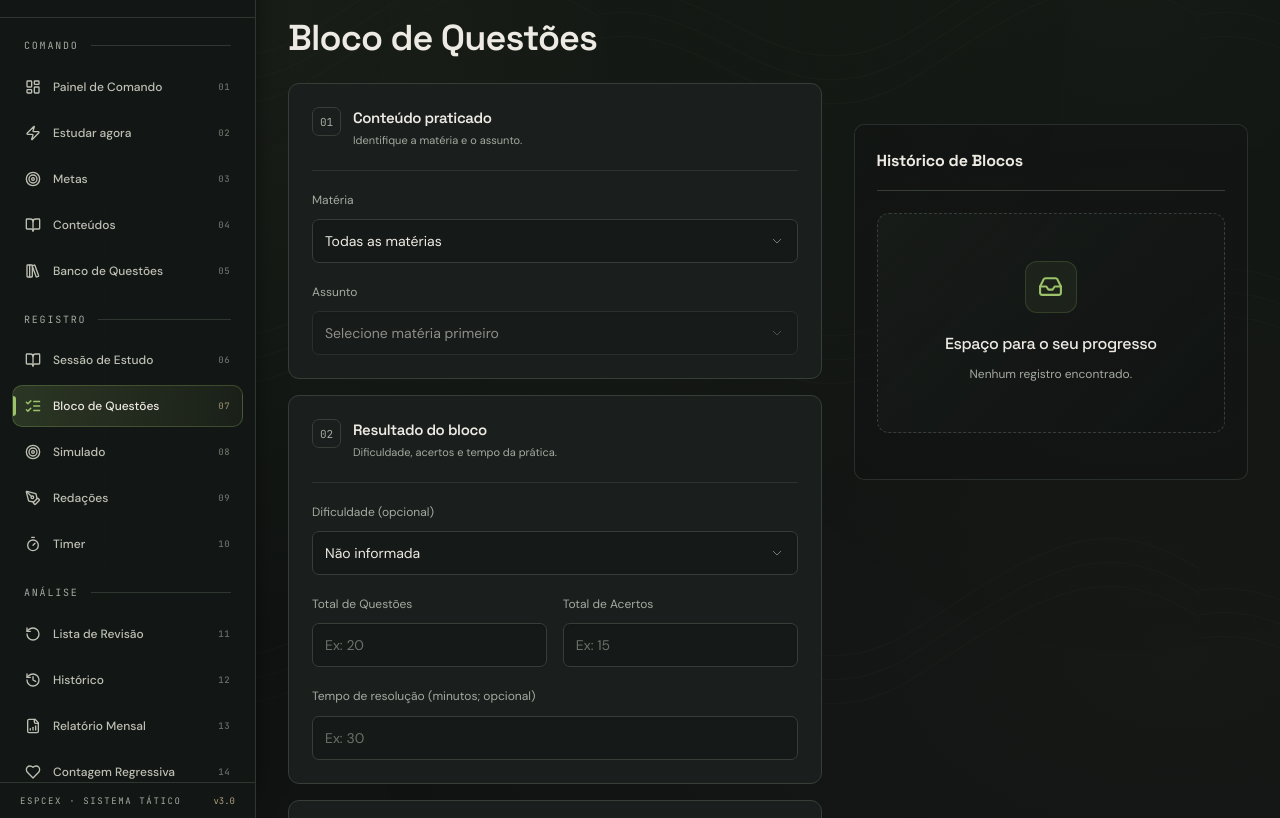
Scenario: Redesign preserves study workflows › preserves block duration conversion and optional confidence
This screenshot has width=1280, height=818.
Select "Matemática" in the dropdown named "Matéria" at point(555, 241), box x1=312 y1=219 x2=798 y2=263
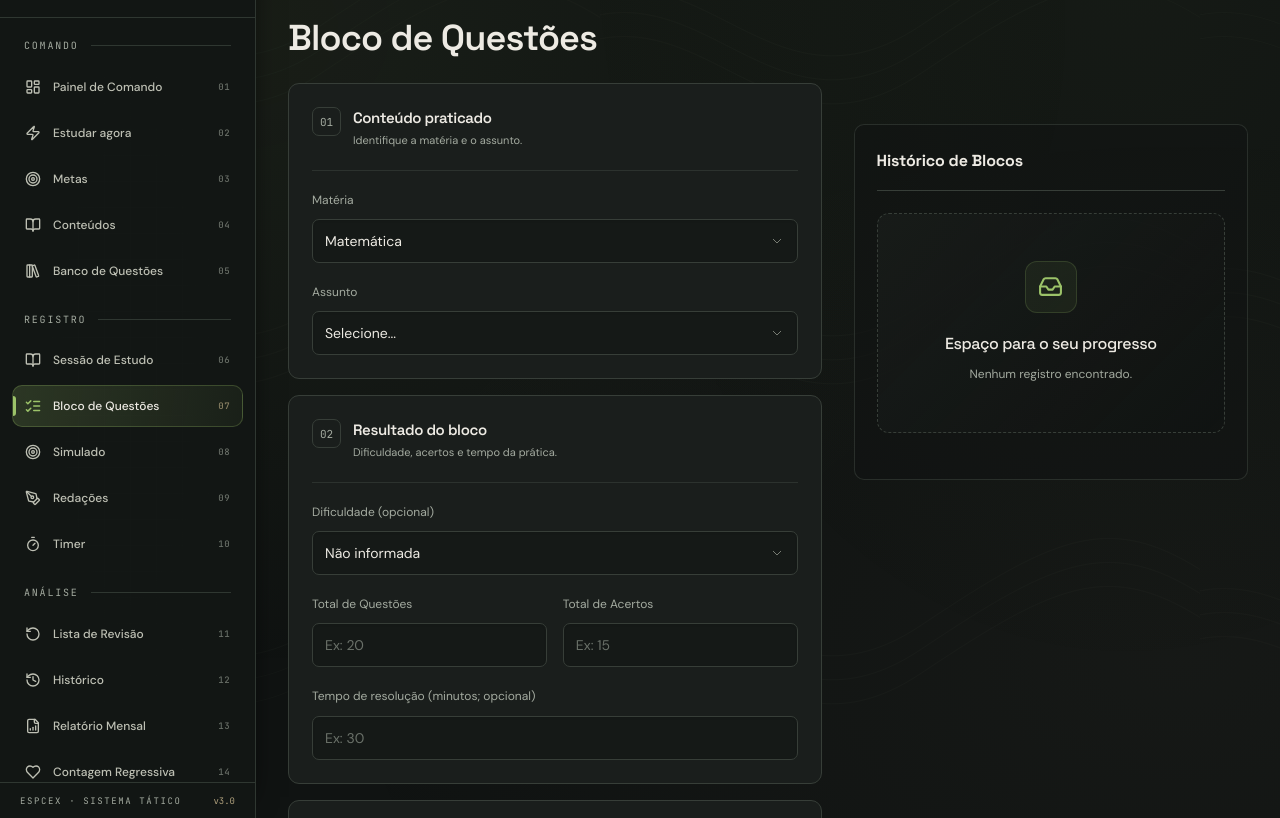
Select "Funções" in the dropdown named "Assunto" at point(555, 333), box x1=312 y1=311 x2=798 y2=355
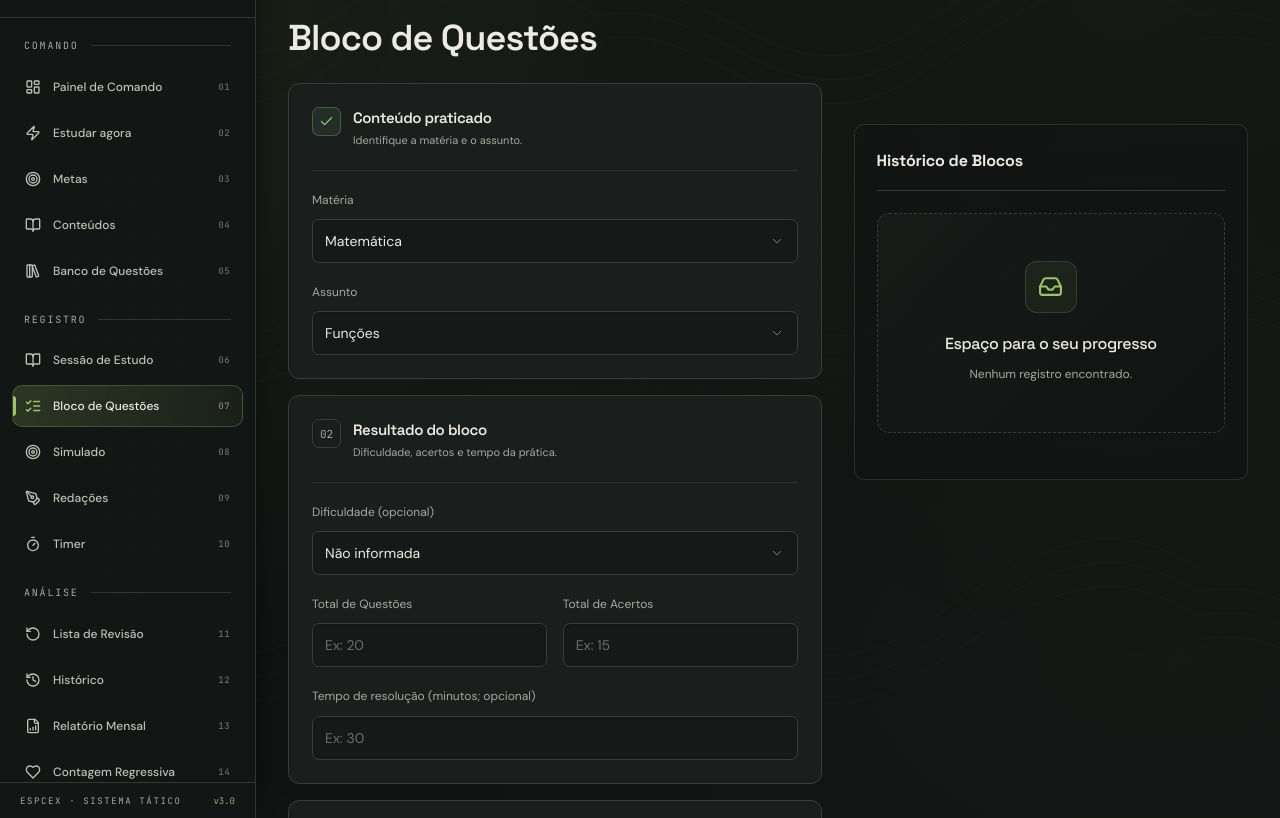
Type "20" into the number field named "Total de Questões".
click(429, 645); type("20")  # box x1=312 y1=623 x2=547 y2=667
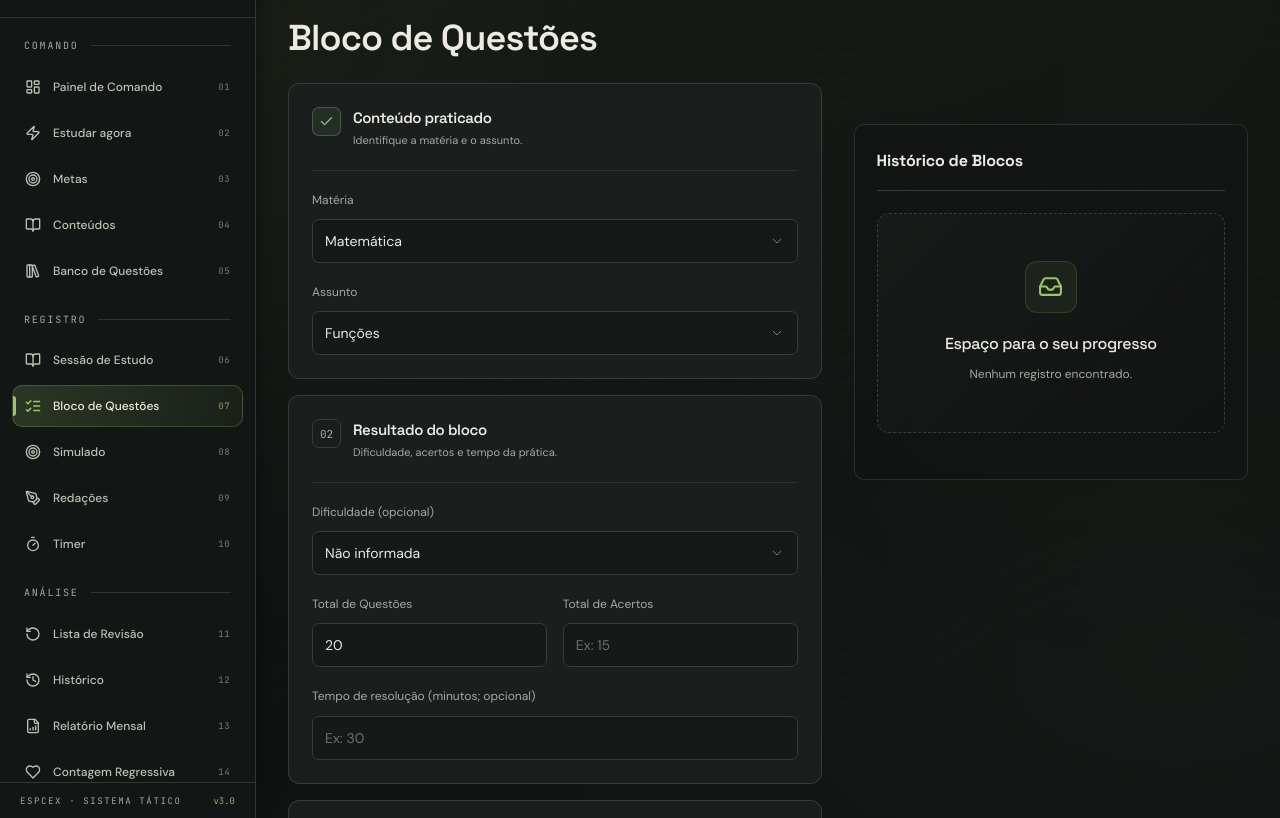
Type "15" into the number field named "Total de Acertos".
click(680, 645); type("15")  # box x1=563 y1=623 x2=798 y2=667
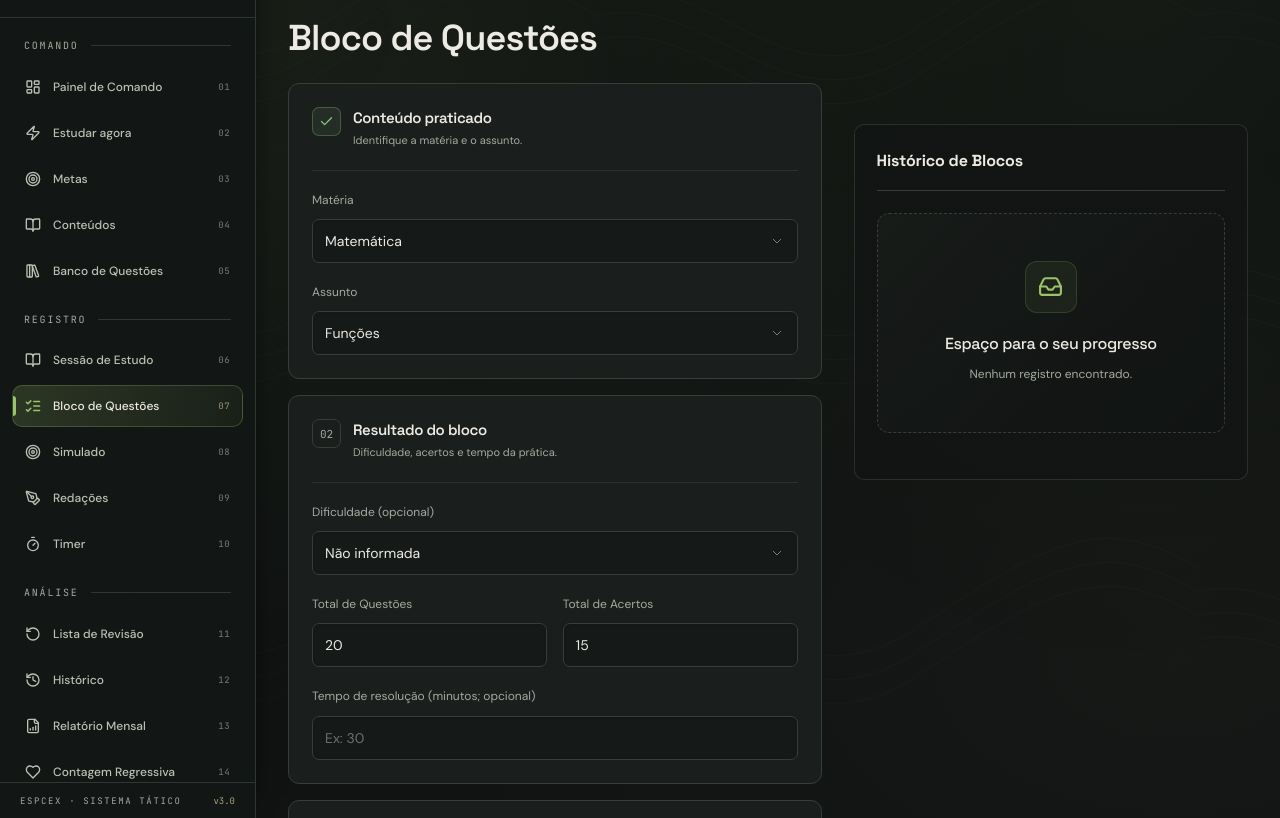
Type "30" into the number field named "Tempo de resolução (minutos; opcional)".
click(555, 738); type("30")  # box x1=312 y1=716 x2=798 y2=760
(page scrolled)
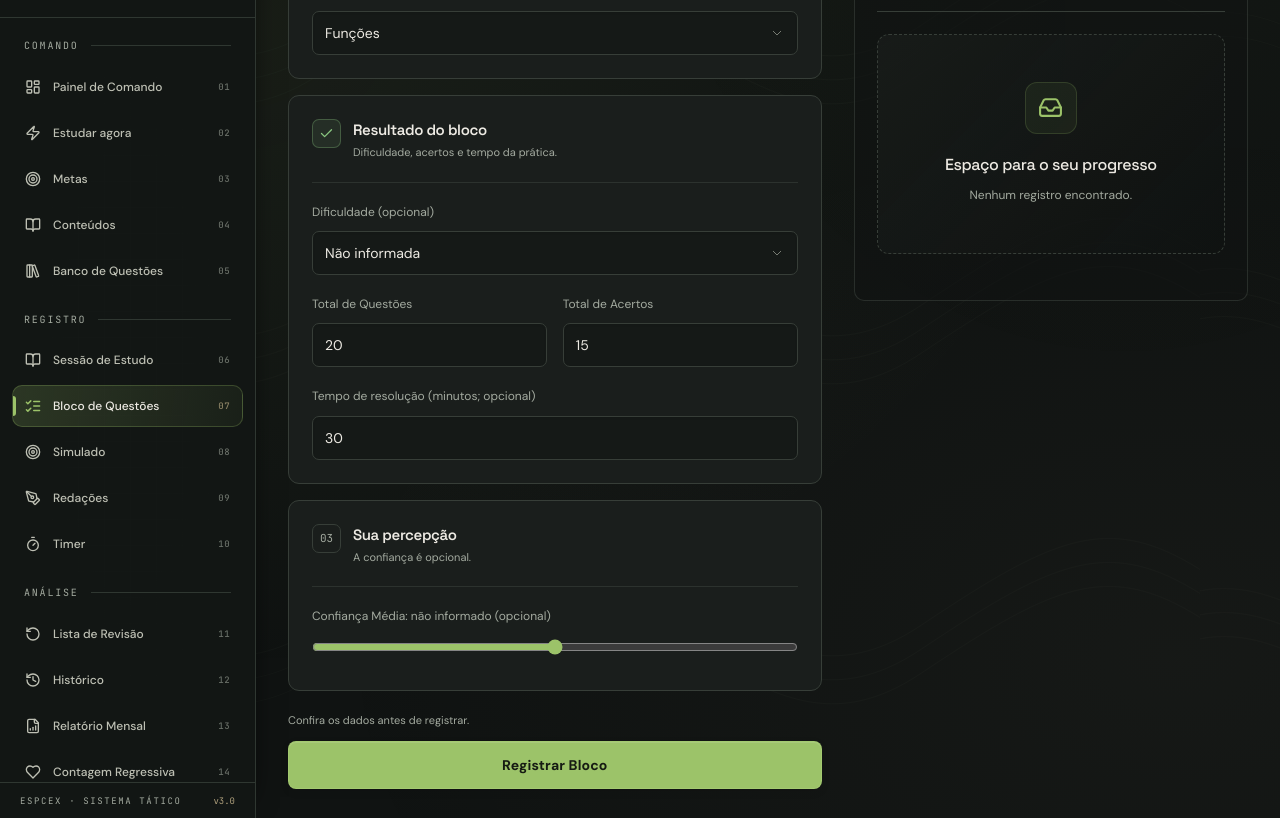
Click the button "Registrar Bloco".
click(555, 765)  # box x1=288 y1=741 x2=822 y2=789
(page scrolled)
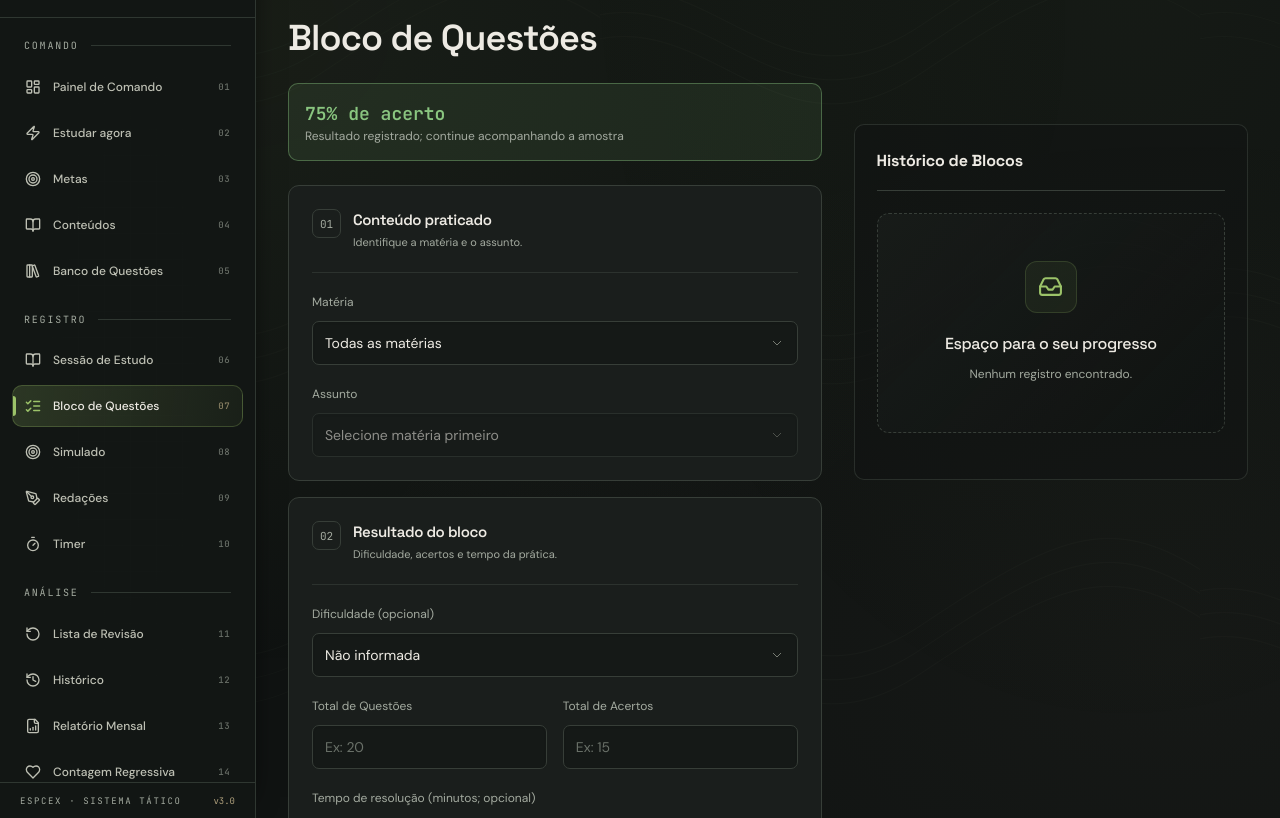
Expected: the text "75% de acerto" is shown, x1=305 y1=102 x2=445 y2=125
